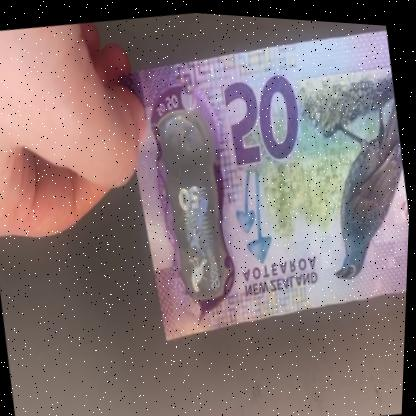50B: (160, 114, 232, 298)
